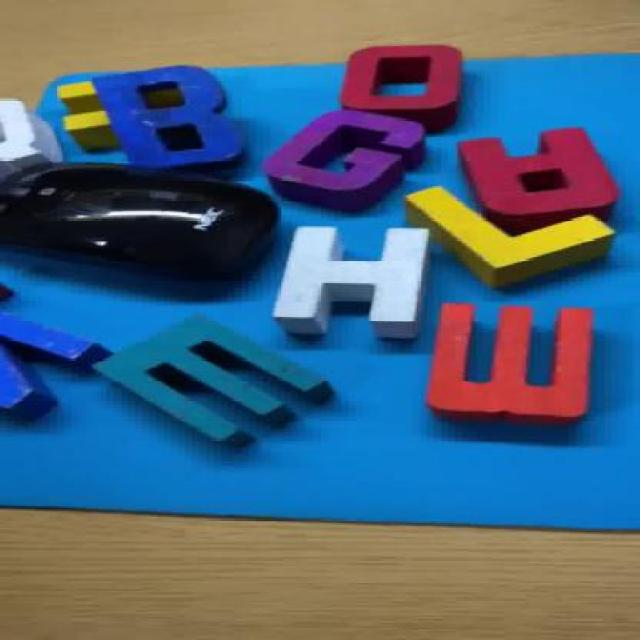B: (83, 64, 254, 179)
G: (262, 109, 432, 209)
H: (263, 222, 442, 341)
L: (404, 188, 616, 294)
M: (115, 314, 334, 443)
O: (336, 43, 475, 128)
W: (416, 302, 602, 423)
